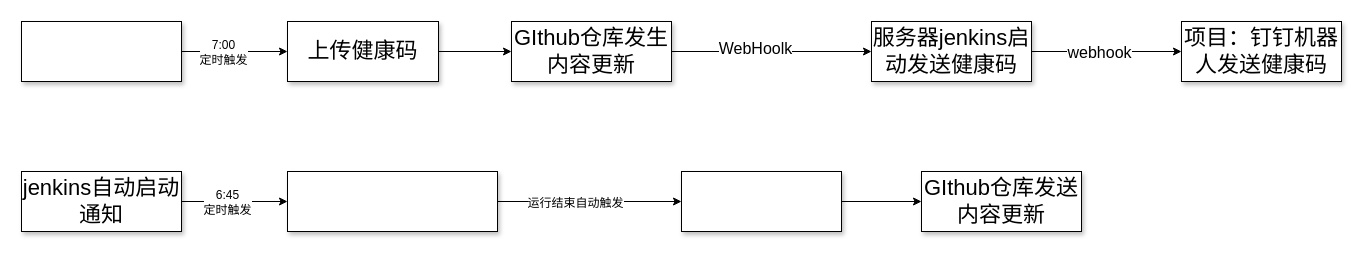
This 1365x256 diagram has some shape labels left out. Here are the shapes that lost their labels. From the top down, the centre of each, then its label:
At (102,52): "闹钟激活手机 快捷指令".
At (393,202): "项目：钉钉机器人通知发送健康码".
At (762,202): "项目：删除远程仓库健康码图片".
